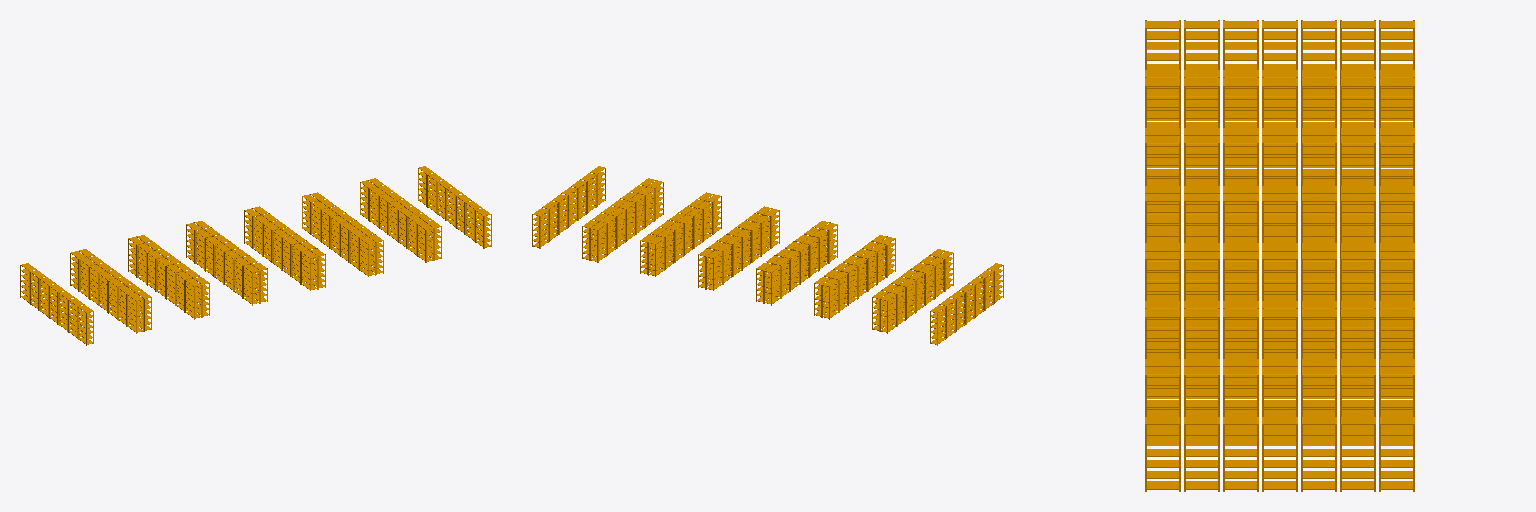
--- Facts derived from the render (not from the file) ---
3 views of the same robot in one strip: view 1: azimuth 30°, elevation 25°; view 2: azimuth 150°, elevation 25°; view 3: azimuth 270°, elevation 25° (orthographic).
Robot: ramp — 1 links, 0 joints (none); root link shelves; default pose: every joint at zero.
Links seen in each view (by area): view 1: shelves; view 2: shelves; view 3: shelves.
Boxes of the visible links, <box> form: shelves: <box>20,166,491,345</box>; shelves: <box>532,166,1003,345</box>; shelves: <box>1145,20,1414,491</box>.
Bounding box of the posed robot: 24.46 × 6.91 × 1.91 m (x, y, z).
Meshes: 1 distinct files referenced, 98 mesh visuals loaded (1 OBJ).

robot.urdf — ramp:
<?xml version="1.0"?>
<robot name="ramp">
  <link name="shelves">
    <visual>
      <origin xyz="-7.2612 0.9492 0.0000" rpy="0.0000 -0.0000 1.5708"/>
      <geometry>
        <mesh filename="picking-shelves.obj" scale="1 1 1"/>
      </geometry>
    </visual>
    <collision>
      <origin xyz="-7.2612 0.9492 0.0000" rpy="0.0000 -0.0000 1.5708"/>
      <geometry>
        <mesh filename="picking-shelves.obj" scale="1 1 1"/>
      </geometry>
    </collision>

    <visual>
      <origin xyz="-7.2612 1.9492 0.0000" rpy="0.0000 -0.0000 1.5708"/>
      <geometry>
        <mesh filename="picking-shelves.obj" scale="1 1 1"/>
      </geometry>
    </visual>
    <collision>
      <origin xyz="-7.2612 1.9492 0.0000" rpy="0.0000 -0.0000 1.5708"/>
      <geometry>
        <mesh filename="picking-shelves.obj" scale="1 1 1"/>
      </geometry>
    </collision>

    <visual>
      <origin xyz="-7.2612 2.9492 0.0000" rpy="0.0000 -0.0000 1.5708"/>
      <geometry>
        <mesh filename="picking-shelves.obj" scale="1 1 1"/>
      </geometry>
    </visual>
    <collision>
      <origin xyz="-7.2612 2.9492 0.0000" rpy="0.0000 -0.0000 1.5708"/>
      <geometry>
        <mesh filename="picking-shelves.obj" scale="1 1 1"/>
      </geometry>
    </collision>

    <visual>
      <origin xyz="-7.2612 3.9492 0.0000" rpy="0.0000 -0.0000 1.5708"/>
      <geometry>
        <mesh filename="picking-shelves.obj" scale="1 1 1"/>
      </geometry>
    </visual>
    <collision>
      <origin xyz="-7.2612 3.9492 0.0000" rpy="0.0000 -0.0000 1.5708"/>
      <geometry>
        <mesh filename="picking-shelves.obj" scale="1 1 1"/>
      </geometry>
    </collision>

    <visual>
      <origin xyz="-7.2612 4.9492 0.0000" rpy="0.0000 -0.0000 1.5708"/>
      <geometry>
        <mesh filename="picking-shelves.obj" scale="1 1 1"/>
      </geometry>
    </visual>
    <collision>
      <origin xyz="-7.2612 4.9492 0.0000" rpy="0.0000 -0.0000 1.5708"/>
      <geometry>
        <mesh filename="picking-shelves.obj" scale="1 1 1"/>
      </geometry>
    </collision>

    <visual>
      <origin xyz="-7.2612 5.9492 0.0000" rpy="0.0000 -0.0000 1.5708"/>
      <geometry>
        <mesh filename="picking-shelves.obj" scale="1 1 1"/>
      </geometry>
    </visual>
    <collision>
      <origin xyz="-7.2612 5.9492 0.0000" rpy="0.0000 -0.0000 1.5708"/>
      <geometry>
        <mesh filename="picking-shelves.obj" scale="1 1 1"/>
      </geometry>
    </collision>

    <visual>
      <origin xyz="-4.2612 -0.0508 0.0000" rpy="0.0000 -0.0000 1.5708"/>
      <geometry>
        <mesh filename="picking-shelves.obj" scale="1 1 1"/>
      </geometry>
    </visual>
    <collision>
      <origin xyz="-4.2612 -0.0508 0.0000" rpy="0.0000 -0.0000 1.5708"/>
      <geometry>
        <mesh filename="picking-shelves.obj" scale="1 1 1"/>
      </geometry>
    </collision>

    <visual>
      <origin xyz="-4.2612 0.9492 0.0000" rpy="0.0000 -0.0000 1.5708"/>
      <geometry>
        <mesh filename="picking-shelves.obj" scale="1 1 1"/>
      </geometry>
    </visual>
    <collision>
      <origin xyz="-4.2612 0.9492 0.0000" rpy="0.0000 -0.0000 1.5708"/>
      <geometry>
        <mesh filename="picking-shelves.obj" scale="1 1 1"/>
      </geometry>
    </collision>

    <visual>
      <origin xyz="-4.2612 1.9492 0.0000" rpy="0.0000 -0.0000 1.5708"/>
      <geometry>
        <mesh filename="picking-shelves.obj" scale="1 1 1"/>
      </geometry>
    </visual>
    <collision>
      <origin xyz="-4.2612 1.9492 0.0000" rpy="0.0000 -0.0000 1.5708"/>
      <geometry>
        <mesh filename="picking-shelves.obj" scale="1 1 1"/>
      </geometry>
    </collision>

    <visual>
      <origin xyz="-4.2612 2.9492 0.0000" rpy="0.0000 -0.0000 1.5708"/>
      <geometry>
        <mesh filename="picking-shelves.obj" scale="1 1 1"/>
      </geometry>
    </visual>
    <collision>
      <origin xyz="-4.2612 2.9492 0.0000" rpy="0.0000 -0.0000 1.5708"/>
      <geometry>
        <mesh filename="picking-shelves.obj" scale="1 1 1"/>
      </geometry>
    </collision>

    <visual>
      <origin xyz="-4.2612 3.9492 0.0000" rpy="0.0000 -0.0000 1.5708"/>
      <geometry>
        <mesh filename="picking-shelves.obj" scale="1 1 1"/>
      </geometry>
    </visual>
    <collision>
      <origin xyz="-4.2612 3.9492 0.0000" rpy="0.0000 -0.0000 1.5708"/>
      <geometry>
        <mesh filename="picking-shelves.obj" scale="1 1 1"/>
      </geometry>
    </collision>

    <visual>
      <origin xyz="-4.2612 4.9492 0.0000" rpy="0.0000 -0.0000 1.5708"/>
      <geometry>
        <mesh filename="picking-shelves.obj" scale="1 1 1"/>
      </geometry>
    </visual>
    <collision>
      <origin xyz="-4.2612 4.9492 0.0000" rpy="0.0000 -0.0000 1.5708"/>
      <geometry>
        <mesh filename="picking-shelves.obj" scale="1 1 1"/>
      </geometry>
    </collision>

    <visual>
      <origin xyz="-4.2612 5.9492 0.0000" rpy="0.0000 -0.0000 1.5708"/>
      <geometry>
        <mesh filename="picking-shelves.obj" scale="1 1 1"/>
      </geometry>
    </visual>
    <collision>
      <origin xyz="-4.2612 5.9492 0.0000" rpy="0.0000 -0.0000 1.5708"/>
      <geometry>
        <mesh filename="picking-shelves.obj" scale="1 1 1"/>
      </geometry>
    </collision>

    <visual>
      <origin xyz="-3.7612 -0.0508 0.0000" rpy="0.0000 -0.0000 1.5708"/>
      <geometry>
        <mesh filename="picking-shelves.obj" scale="1 1 1"/>
      </geometry>
    </visual>
    <collision>
      <origin xyz="-3.7612 -0.0508 0.0000" rpy="0.0000 -0.0000 1.5708"/>
      <geometry>
        <mesh filename="picking-shelves.obj" scale="1 1 1"/>
      </geometry>
    </collision>

    <visual>
      <origin xyz="-3.7612 0.9492 0.0000" rpy="0.0000 -0.0000 1.5708"/>
      <geometry>
        <mesh filename="picking-shelves.obj" scale="1 1 1"/>
      </geometry>
    </visual>
    <collision>
      <origin xyz="-3.7612 0.9492 0.0000" rpy="0.0000 -0.0000 1.5708"/>
      <geometry>
        <mesh filename="picking-shelves.obj" scale="1 1 1"/>
      </geometry>
    </collision>

    <visual>
      <origin xyz="-3.7612 1.9492 0.0000" rpy="0.0000 -0.0000 1.5708"/>
      <geometry>
        <mesh filename="picking-shelves.obj" scale="1 1 1"/>
      </geometry>
    </visual>
    <collision>
      <origin xyz="-3.7612 1.9492 0.0000" rpy="0.0000 -0.0000 1.5708"/>
      <geometry>
        <mesh filename="picking-shelves.obj" scale="1 1 1"/>
      </geometry>
    </collision>

    <visual>
      <origin xyz="-3.7612 2.9492 0.0000" rpy="0.0000 -0.0000 1.5708"/>
      <geometry>
        <mesh filename="picking-shelves.obj" scale="1 1 1"/>
      </geometry>
    </visual>
    <collision>
      <origin xyz="-3.7612 2.9492 0.0000" rpy="0.0000 -0.0000 1.5708"/>
      <geometry>
        <mesh filename="picking-shelves.obj" scale="1 1 1"/>
      </geometry>
    </collision>

    <visual>
      <origin xyz="-3.7612 3.9492 0.0000" rpy="0.0000 -0.0000 1.5708"/>
      <geometry>
        <mesh filename="picking-shelves.obj" scale="1 1 1"/>
      </geometry>
    </visual>
    <collision>
      <origin xyz="-3.7612 3.9492 0.0000" rpy="0.0000 -0.0000 1.5708"/>
      <geometry>
        <mesh filename="picking-shelves.obj" scale="1 1 1"/>
      </geometry>
    </collision>

    <visual>
      <origin xyz="-3.7612 4.9492 0.0000" rpy="0.0000 -0.0000 1.5708"/>
      <geometry>
        <mesh filename="picking-shelves.obj" scale="1 1 1"/>
      </geometry>
    </visual>
    <collision>
      <origin xyz="-3.7612 4.9492 0.0000" rpy="0.0000 -0.0000 1.5708"/>
      <geometry>
        <mesh filename="picking-shelves.obj" scale="1 1 1"/>
      </geometry>
    </collision>

    <visual>
      <origin xyz="-3.7612 5.9492 0.0000" rpy="0.0000 -0.0000 1.5708"/>
      <geometry>
        <mesh filename="picking-shelves.obj" scale="1 1 1"/>
      </geometry>
    </visual>
    <collision>
      <origin xyz="-3.7612 5.9492 0.0000" rpy="0.0000 -0.0000 1.5708"/>
      <geometry>
        <mesh filename="picking-shelves.obj" scale="1 1 1"/>
      </geometry>
    </collision>

    <visual>
      <origin xyz="-0.7612 -0.0508 0.0000" rpy="0.0000 -0.0000 1.5708"/>
      <geometry>
        <mesh filename="picking-shelves.obj" scale="1 1 1"/>
      </geometry>
    </visual>
    <collision>
      <origin xyz="-0.7612 -0.0508 0.0000" rpy="0.0000 -0.0000 1.5708"/>
      <geometry>
        <mesh filename="picking-shelves.obj" scale="1 1 1"/>
      </geometry>
    </collision>

    <visual>
      <origin xyz="-0.7612 0.9492 0.0000" rpy="0.0000 -0.0000 1.5708"/>
      <geometry>
        <mesh filename="picking-shelves.obj" scale="1 1 1"/>
      </geometry>
    </visual>
    <collision>
      <origin xyz="-0.7612 0.9492 0.0000" rpy="0.0000 -0.0000 1.5708"/>
      <geometry>
        <mesh filename="picking-shelves.obj" scale="1 1 1"/>
      </geometry>
    </collision>

    <visual>
      <origin xyz="-0.7612 1.9492 0.0000" rpy="0.0000 -0.0000 1.5708"/>
      <geometry>
        <mesh filename="picking-shelves.obj" scale="1 1 1"/>
      </geometry>
    </visual>
    <collision>
      <origin xyz="-0.7612 1.9492 0.0000" rpy="0.0000 -0.0000 1.5708"/>
      <geometry>
        <mesh filename="picking-shelves.obj" scale="1 1 1"/>
      </geometry>
    </collision>

    <visual>
      <origin xyz="-0.7612 2.9492 0.0000" rpy="0.0000 -0.0000 1.5708"/>
      <geometry>
        <mesh filename="picking-shelves.obj" scale="1 1 1"/>
      </geometry>
    </visual>
    <collision>
      <origin xyz="-0.7612 2.9492 0.0000" rpy="0.0000 -0.0000 1.5708"/>
      <geometry>
        <mesh filename="picking-shelves.obj" scale="1 1 1"/>
      </geometry>
    </collision>

    <visual>
      <origin xyz="-0.7612 3.9492 0.0000" rpy="0.0000 -0.0000 1.5708"/>
      <geometry>
        <mesh filename="picking-shelves.obj" scale="1 1 1"/>
      </geometry>
    </visual>
    <collision>
      <origin xyz="-0.7612 3.9492 0.0000" rpy="0.0000 -0.0000 1.5708"/>
      <geometry>
        <mesh filename="picking-shelves.obj" scale="1 1 1"/>
      </geometry>
    </collision>

    <visual>
      <origin xyz="-0.7612 4.9492 0.0000" rpy="0.0000 -0.0000 1.5708"/>
      <geometry>
        <mesh filename="picking-shelves.obj" scale="1 1 1"/>
      </geometry>
    </visual>
    <collision>
      <origin xyz="-0.7612 4.9492 0.0000" rpy="0.0000 -0.0000 1.5708"/>
      <geometry>
        <mesh filename="picking-shelves.obj" scale="1 1 1"/>
      </geometry>
    </collision>

    <visual>
      <origin xyz="-0.7612 5.9492 0.0000" rpy="0.0000 -0.0000 1.5708"/>
      <geometry>
        <mesh filename="picking-shelves.obj" scale="1 1 1"/>
      </geometry>
    </visual>
    <collision>
      <origin xyz="-0.7612 5.9492 0.0000" rpy="0.0000 -0.0000 1.5708"/>
      <geometry>
        <mesh filename="picking-shelves.obj" scale="1 1 1"/>
      </geometry>
    </collision>

    <visual>
      <origin xyz="-0.2612 -0.0508 0.0000" rpy="0.0000 -0.0000 1.5708"/>
      <geometry>
        <mesh filename="picking-shelves.obj" scale="1 1 1"/>
      </geometry>
    </visual>
    <collision>
      <origin xyz="-0.2612 -0.0508 0.0000" rpy="0.0000 -0.0000 1.5708"/>
      <geometry>
        <mesh filename="picking-shelves.obj" scale="1 1 1"/>
      </geometry>
    </collision>

    <visual>
      <origin xyz="-0.2612 0.9492 0.0000" rpy="0.0000 -0.0000 1.5708"/>
      <geometry>
        <mesh filename="picking-shelves.obj" scale="1 1 1"/>
      </geometry>
    </visual>
    <collision>
      <origin xyz="-0.2612 0.9492 0.0000" rpy="0.0000 -0.0000 1.5708"/>
      <geometry>
        <mesh filename="picking-shelves.obj" scale="1 1 1"/>
      </geometry>
    </collision>

    <visual>
      <origin xyz="-0.2612 1.9492 0.0000" rpy="0.0000 -0.0000 1.5708"/>
      <geometry>
        <mesh filename="picking-shelves.obj" scale="1 1 1"/>
      </geometry>
    </visual>
    <collision>
      <origin xyz="-0.2612 1.9492 0.0000" rpy="0.0000 -0.0000 1.5708"/>
      <geometry>
        <mesh filename="picking-shelves.obj" scale="1 1 1"/>
      </geometry>
    </collision>

    <visual>
      <origin xyz="-0.2612 2.9492 0.0000" rpy="0.0000 -0.0000 1.5708"/>
      <geometry>
        <mesh filename="picking-shelves.obj" scale="1 1 1"/>
      </geometry>
    </visual>
    <collision>
      <origin xyz="-0.2612 2.9492 0.0000" rpy="0.0000 -0.0000 1.5708"/>
      <geometry>
        <mesh filename="picking-shelves.obj" scale="1 1 1"/>
      </geometry>
    </collision>

    <visual>
      <origin xyz="-0.2612 3.9492 0.0000" rpy="0.0000 -0.0000 1.5708"/>
      <geometry>
        <mesh filename="picking-shelves.obj" scale="1 1 1"/>
      </geometry>
    </visual>
    <collision>
      <origin xyz="-0.2612 3.9492 0.0000" rpy="0.0000 -0.0000 1.5708"/>
      <geometry>
        <mesh filename="picking-shelves.obj" scale="1 1 1"/>
      </geometry>
    </collision>

    <visual>
      <origin xyz="-0.2612 4.9492 0.0000" rpy="0.0000 -0.0000 1.5708"/>
      <geometry>
        <mesh filename="picking-shelves.obj" scale="1 1 1"/>
      </geometry>
    </visual>
    <collision>
      <origin xyz="-0.2612 4.9492 0.0000" rpy="0.0000 -0.0000 1.5708"/>
      <geometry>
        <mesh filename="picking-shelves.obj" scale="1 1 1"/>
      </geometry>
    </collision>

    <visual>
      <origin xyz="-0.2612 5.9492 0.0000" rpy="0.0000 -0.0000 1.5708"/>
      <geometry>
        <mesh filename="picking-shelves.obj" scale="1 1 1"/>
      </geometry>
    </visual>
    <collision>
      <origin xyz="-0.2612 5.9492 0.0000" rpy="0.0000 -0.0000 1.5708"/>
      <geometry>
        <mesh filename="picking-shelves.obj" scale="1 1 1"/>
      </geometry>
    </collision>

    <visual>
      <origin xyz="2.7388 -0.0508 0.0000" rpy="0.0000 -0.0000 1.5708"/>
      <geometry>
        <mesh filename="picking-shelves.obj" scale="1 1 1"/>
      </geometry>
    </visual>
    <collision>
      <origin xyz="2.7388 -0.0508 0.0000" rpy="0.0000 -0.0000 1.5708"/>
      <geometry>
        <mesh filename="picking-shelves.obj" scale="1 1 1"/>
      </geometry>
    </collision>

    <visual>
      <origin xyz="2.7388 0.9492 0.0000" rpy="0.0000 -0.0000 1.5708"/>
      <geometry>
        <mesh filename="picking-shelves.obj" scale="1 1 1"/>
      </geometry>
    </visual>
    <collision>
      <origin xyz="2.7388 0.9492 0.0000" rpy="0.0000 -0.0000 1.5708"/>
      <geometry>
        <mesh filename="picking-shelves.obj" scale="1 1 1"/>
      </geometry>
    </collision>

    <visual>
      <origin xyz="2.7388 1.9492 0.0000" rpy="0.0000 -0.0000 1.5708"/>
      <geometry>
        <mesh filename="picking-shelves.obj" scale="1 1 1"/>
      </geometry>
    </visual>
    <collision>
      <origin xyz="2.7388 1.9492 0.0000" rpy="0.0000 -0.0000 1.5708"/>
      <geometry>
        <mesh filename="picking-shelves.obj" scale="1 1 1"/>
      </geometry>
    </collision>

    <visual>
      <origin xyz="2.7388 2.9492 0.0000" rpy="0.0000 -0.0000 1.5708"/>
      <geometry>
        <mesh filename="picking-shelves.obj" scale="1 1 1"/>
      </geometry>
    </visual>
    <collision>
      <origin xyz="2.7388 2.9492 0.0000" rpy="0.0000 -0.0000 1.5708"/>
      <geometry>
        <mesh filename="picking-shelves.obj" scale="1 1 1"/>
      </geometry>
    </collision>

    <visual>
      <origin xyz="-7.2612 -0.0508 0.0000" rpy="0.0000 -0.0000 1.5708"/>
      <geometry>
        <mesh filename="picking-shelves.obj" scale="1 1 1"/>
      </geometry>
    </visual>
    <collision>
      <origin xyz="-7.2612 -0.0508 0.0000" rpy="0.0000 -0.0000 1.5708"/>
      <geometry>
        <mesh filename="picking-shelves.obj" scale="1 1 1"/>
      </geometry>
    </collision>

    <visual>
      <origin xyz="2.7388 3.9492 0.0000" rpy="0.0000 -0.0000 1.5708"/>
      <geometry>
        <mesh filename="picking-shelves.obj" scale="1 1 1"/>
      </geometry>
    </visual>
    <collision>
      <origin xyz="2.7388 3.9492 0.0000" rpy="0.0000 -0.0000 1.5708"/>
      <geometry>
        <mesh filename="picking-shelves.obj" scale="1 1 1"/>
      </geometry>
    </collision>

    <visual>
      <origin xyz="2.7388 4.9492 0.0000" rpy="0.0000 -0.0000 1.5708"/>
      <geometry>
        <mesh filename="picking-shelves.obj" scale="1 1 1"/>
      </geometry>
    </visual>
    <collision>
      <origin xyz="2.7388 4.9492 0.0000" rpy="0.0000 -0.0000 1.5708"/>
      <geometry>
        <mesh filename="picking-shelves.obj" scale="1 1 1"/>
      </geometry>
    </collision>

    <visual>
      <origin xyz="2.7388 5.9492 0.0000" rpy="0.0000 -0.0000 1.5708"/>
      <geometry>
        <mesh filename="picking-shelves.obj" scale="1 1 1"/>
      </geometry>
    </visual>
    <collision>
      <origin xyz="2.7388 5.9492 0.0000" rpy="0.0000 -0.0000 1.5708"/>
      <geometry>
        <mesh filename="picking-shelves.obj" scale="1 1 1"/>
      </geometry>
    </collision>

    <visual>
      <origin xyz="3.2388 -0.0508 0.0000" rpy="0.0000 -0.0000 1.5708"/>
      <geometry>
        <mesh filename="picking-shelves.obj" scale="1 1 1"/>
      </geometry>
    </visual>
    <collision>
      <origin xyz="3.2388 -0.0508 0.0000" rpy="0.0000 -0.0000 1.5708"/>
      <geometry>
        <mesh filename="picking-shelves.obj" scale="1 1 1"/>
      </geometry>
    </collision>

    <visual>
      <origin xyz="3.2388 0.9492 0.0000" rpy="0.0000 -0.0000 1.5708"/>
      <geometry>
        <mesh filename="picking-shelves.obj" scale="1 1 1"/>
      </geometry>
    </visual>
    <collision>
      <origin xyz="3.2388 0.9492 0.0000" rpy="0.0000 -0.0000 1.5708"/>
      <geometry>
        <mesh filename="picking-shelves.obj" scale="1 1 1"/>
      </geometry>
    </collision>

    <visual>
      <origin xyz="3.2388 1.9492 0.0000" rpy="0.0000 -0.0000 1.5708"/>
      <geometry>
        <mesh filename="picking-shelves.obj" scale="1 1 1"/>
      </geometry>
    </visual>
    <collision>
      <origin xyz="3.2388 1.9492 0.0000" rpy="0.0000 -0.0000 1.5708"/>
      <geometry>
        <mesh filename="picking-shelves.obj" scale="1 1 1"/>
      </geometry>
    </collision>

    <visual>
      <origin xyz="3.2388 2.9492 0.0000" rpy="0.0000 -0.0000 1.5708"/>
      <geometry>
        <mesh filename="picking-shelves.obj" scale="1 1 1"/>
      </geometry>
    </visual>
    <collision>
      <origin xyz="3.2388 2.9492 0.0000" rpy="0.0000 -0.0000 1.5708"/>
      <geometry>
        <mesh filename="picking-shelves.obj" scale="1 1 1"/>
      </geometry>
    </collision>

    <visual>
      <origin xyz="3.2388 3.9492 0.0000" rpy="0.0000 -0.0000 1.5708"/>
      <geometry>
        <mesh filename="picking-shelves.obj" scale="1 1 1"/>
      </geometry>
    </visual>
    <collision>
      <origin xyz="3.2388 3.9492 0.0000" rpy="0.0000 -0.0000 1.5708"/>
      <geometry>
        <mesh filename="picking-shelves.obj" scale="1 1 1"/>
      </geometry>
    </collision>

    <visual>
      <origin xyz="3.2388 4.9492 0.0000" rpy="0.0000 -0.0000 1.5708"/>
      <geometry>
        <mesh filename="picking-shelves.obj" scale="1 1 1"/>
      </geometry>
    </visual>
    <collision>
      <origin xyz="3.2388 4.9492 0.0000" rpy="0.0000 -0.0000 1.5708"/>
      <geometry>
        <mesh filename="picking-shelves.obj" scale="1 1 1"/>
      </geometry>
    </collision>

    <visual>
      <origin xyz="3.2388 5.9492 0.0000" rpy="0.0000 -0.0000 1.5708"/>
      <geometry>
        <mesh filename="picking-shelves.obj" scale="1 1 1"/>
      </geometry>
    </visual>
    <collision>
      <origin xyz="3.2388 5.9492 0.0000" rpy="0.0000 -0.0000 1.5708"/>
      <geometry>
        <mesh filename="picking-shelves.obj" scale="1 1 1"/>
      </geometry>
    </collision>

    <visual>
      <origin xyz="6.2388 -0.0508 0.0000" rpy="0.0000 -0.0000 1.5708"/>
      <geometry>
        <mesh filename="picking-shelves.obj" scale="1 1 1"/>
      </geometry>
    </visual>
    <collision>
      <origin xyz="6.2388 -0.0508 0.0000" rpy="0.0000 -0.0000 1.5708"/>
      <geometry>
        <mesh filename="picking-shelves.obj" scale="1 1 1"/>
      </geometry>
    </collision>

    <visual>
      <origin xyz="6.2388 0.9492 0.0000" rpy="0.0000 -0.0000 1.5708"/>
      <geometry>
        <mesh filename="picking-shelves.obj" scale="1 1 1"/>
      </geometry>
    </visual>
    <collision>
      <origin xyz="6.2388 0.9492 0.0000" rpy="0.0000 -0.0000 1.5708"/>
      <geometry>
        <mesh filename="picking-shelves.obj" scale="1 1 1"/>
      </geometry>
    </collision>

    <visual>
      <origin xyz="6.2388 1.9492 0.0000" rpy="0.0000 -0.0000 1.5708"/>
      <geometry>
        <mesh filename="picking-shelves.obj" scale="1 1 1"/>
      </geometry>
    </visual>
    <collision>
      <origin xyz="6.2388 1.9492 0.0000" rpy="0.0000 -0.0000 1.5708"/>
      <geometry>
        <mesh filename="picking-shelves.obj" scale="1 1 1"/>
      </geometry>
    </collision>

    <visual>
      <origin xyz="6.2388 2.9492 0.0000" rpy="0.0000 -0.0000 1.5708"/>
      <geometry>
        <mesh filename="picking-shelves.obj" scale="1 1 1"/>
      </geometry>
    </visual>
    <collision>
      <origin xyz="6.2388 2.9492 0.0000" rpy="0.0000 -0.0000 1.5708"/>
      <geometry>
        <mesh filename="picking-shelves.obj" scale="1 1 1"/>
      </geometry>
    </collision>

    <visual>
      <origin xyz="6.2388 3.9492 0.0000" rpy="0.0000 -0.0000 1.5708"/>
      <geometry>
        <mesh filename="picking-shelves.obj" scale="1 1 1"/>
      </geometry>
    </visual>
    <collision>
      <origin xyz="6.2388 3.9492 0.0000" rpy="0.0000 -0.0000 1.5708"/>
      <geometry>
        <mesh filename="picking-shelves.obj" scale="1 1 1"/>
      </geometry>
    </collision>

    <visual>
      <origin xyz="6.2388 4.9492 0.0000" rpy="0.0000 -0.0000 1.5708"/>
      <geometry>
        <mesh filename="picking-shelves.obj" scale="1 1 1"/>
      </geometry>
    </visual>
    <collision>
      <origin xyz="6.2388 4.9492 0.0000" rpy="0.0000 -0.0000 1.5708"/>
      <geometry>
        <mesh filename="picking-shelves.obj" scale="1 1 1"/>
      </geometry>
    </collision>

    <visual>
      <origin xyz="6.2388 5.9492 0.0000" rpy="0.0000 -0.0000 1.5708"/>
      <geometry>
        <mesh filename="picking-shelves.obj" scale="1 1 1"/>
      </geometry>
    </visual>
    <collision>
      <origin xyz="6.2388 5.9492 0.0000" rpy="0.0000 -0.0000 1.5708"/>
      <geometry>
        <mesh filename="picking-shelves.obj" scale="1 1 1"/>
      </geometry>
    </collision>

    <visual>
      <origin xyz="6.7388 -0.0508 0.0000" rpy="0.0000 -0.0000 1.5708"/>
      <geometry>
        <mesh filename="picking-shelves.obj" scale="1 1 1"/>
      </geometry>
    </visual>
    <collision>
      <origin xyz="6.7388 -0.0508 0.0000" rpy="0.0000 -0.0000 1.5708"/>
      <geometry>
        <mesh filename="picking-shelves.obj" scale="1 1 1"/>
      </geometry>
    </collision>

    <visual>
      <origin xyz="6.7388 0.9492 0.0000" rpy="0.0000 -0.0000 1.5708"/>
      <geometry>
        <mesh filename="picking-shelves.obj" scale="1 1 1"/>
      </geometry>
    </visual>
    <collision>
      <origin xyz="6.7388 0.9492 0.0000" rpy="0.0000 -0.0000 1.5708"/>
      <geometry>
        <mesh filename="picking-shelves.obj" scale="1 1 1"/>
      </geometry>
    </collision>

    <visual>
      <origin xyz="6.7388 1.9492 0.0000" rpy="0.0000 -0.0000 1.5708"/>
      <geometry>
        <mesh filename="picking-shelves.obj" scale="1 1 1"/>
      </geometry>
    </visual>
    <collision>
      <origin xyz="6.7388 1.9492 0.0000" rpy="0.0000 -0.0000 1.5708"/>
      <geometry>
        <mesh filename="picking-shelves.obj" scale="1 1 1"/>
      </geometry>
    </collision>

    <visual>
      <origin xyz="6.7388 2.9492 0.0000" rpy="0.0000 -0.0000 1.5708"/>
      <geometry>
        <mesh filename="picking-shelves.obj" scale="1 1 1"/>
      </geometry>
    </visual>
    <collision>
      <origin xyz="6.7388 2.9492 0.0000" rpy="0.0000 -0.0000 1.5708"/>
      <geometry>
        <mesh filename="picking-shelves.obj" scale="1 1 1"/>
      </geometry>
    </collision>

    <visual>
      <origin xyz="6.7388 3.9492 0.0000" rpy="0.0000 -0.0000 1.5708"/>
      <geometry>
        <mesh filename="picking-shelves.obj" scale="1 1 1"/>
      </geometry>
    </visual>
    <collision>
      <origin xyz="6.7388 3.9492 0.0000" rpy="0.0000 -0.0000 1.5708"/>
      <geometry>
        <mesh filename="picking-shelves.obj" scale="1 1 1"/>
      </geometry>
    </collision>

    <visual>
      <origin xyz="6.7388 4.9492 0.0000" rpy="0.0000 -0.0000 1.5708"/>
      <geometry>
        <mesh filename="picking-shelves.obj" scale="1 1 1"/>
      </geometry>
    </visual>
    <collision>
      <origin xyz="6.7388 4.9492 0.0000" rpy="0.0000 -0.0000 1.5708"/>
      <geometry>
        <mesh filename="picking-shelves.obj" scale="1 1 1"/>
      </geometry>
    </collision>

    <visual>
      <origin xyz="6.7388 5.9492 0.0000" rpy="0.0000 -0.0000 1.5708"/>
      <geometry>
        <mesh filename="picking-shelves.obj" scale="1 1 1"/>
      </geometry>
    </visual>
    <collision>
      <origin xyz="6.7388 5.9492 0.0000" rpy="0.0000 -0.0000 1.5708"/>
      <geometry>
        <mesh filename="picking-shelves.obj" scale="1 1 1"/>
      </geometry>
    </collision>

    <visual>
      <origin xyz="9.7388 -0.0508 0.0000" rpy="0.0000 -0.0000 1.5708"/>
      <geometry>
        <mesh filename="picking-shelves.obj" scale="1 1 1"/>
      </geometry>
    </visual>
    <collision>
      <origin xyz="9.7388 -0.0508 0.0000" rpy="0.0000 -0.0000 1.5708"/>
      <geometry>
        <mesh filename="picking-shelves.obj" scale="1 1 1"/>
      </geometry>
    </collision>

    <visual>
      <origin xyz="9.7388 0.9492 0.0000" rpy="0.0000 -0.0000 1.5708"/>
      <geometry>
        <mesh filename="picking-shelves.obj" scale="1 1 1"/>
      </geometry>
    </visual>
    <collision>
      <origin xyz="9.7388 0.9492 0.0000" rpy="0.0000 -0.0000 1.5708"/>
      <geometry>
        <mesh filename="picking-shelves.obj" scale="1 1 1"/>
      </geometry>
    </collision>

    <visual>
      <origin xyz="9.7388 1.9492 0.0000" rpy="0.0000 -0.0000 1.5708"/>
      <geometry>
        <mesh filename="picking-shelves.obj" scale="1 1 1"/>
      </geometry>
    </visual>
    <collision>
      <origin xyz="9.7388 1.9492 0.0000" rpy="0.0000 -0.0000 1.5708"/>
      <geometry>
        <mesh filename="picking-shelves.obj" scale="1 1 1"/>
      </geometry>
    </collision>

    <visual>
      <origin xyz="9.7388 2.9492 0.0000" rpy="0.0000 -0.0000 1.5708"/>
      <geometry>
        <mesh filename="picking-shelves.obj" scale="1 1 1"/>
      </geometry>
    </visual>
    <collision>
      <origin xyz="9.7388 2.9492 0.0000" rpy="0.0000 -0.0000 1.5708"/>
      <geometry>
        <mesh filename="picking-shelves.obj" scale="1 1 1"/>
      </geometry>
    </collision>

    <visual>
      <origin xyz="9.7388 3.9492 0.0000" rpy="0.0000 -0.0000 1.5708"/>
      <geometry>
        <mesh filename="picking-shelves.obj" scale="1 1 1"/>
      </geometry>
    </visual>
    <collision>
      <origin xyz="9.7388 3.9492 0.0000" rpy="0.0000 -0.0000 1.5708"/>
      <geometry>
        <mesh filename="picking-shelves.obj" scale="1 1 1"/>
      </geometry>
    </collision>

    <visual>
      <origin xyz="9.7388 4.9492 0.0000" rpy="0.0000 -0.0000 1.5708"/>
      <geometry>
        <mesh filename="picking-shelves.obj" scale="1 1 1"/>
      </geometry>
    </visual>
    <collision>
      <origin xyz="9.7388 4.9492 0.0000" rpy="0.0000 -0.0000 1.5708"/>
      <geometry>
        <mesh filename="picking-shelves.obj" scale="1 1 1"/>
      </geometry>
    </collision>

    <visual>
      <origin xyz="9.7388 5.9492 0.0000" rpy="0.0000 -0.0000 1.5708"/>
      <geometry>
        <mesh filename="picking-shelves.obj" scale="1 1 1"/>
      </geometry>
    </visual>
    <collision>
      <origin xyz="9.7388 5.9492 0.0000" rpy="0.0000 -0.0000 1.5708"/>
      <geometry>
        <mesh filename="picking-shelves.obj" scale="1 1 1"/>
      </geometry>
    </collision>

    <visual>
      <origin xyz="10.2388 -0.0508 0.0000" rpy="0.0000 -0.0000 1.5708"/>
      <geometry>
        <mesh filename="picking-shelves.obj" scale="1 1 1"/>
      </geometry>
    </visual>
    <collision>
      <origin xyz="10.2388 -0.0508 0.0000" rpy="0.0000 -0.0000 1.5708"/>
      <geometry>
        <mesh filename="picking-shelves.obj" scale="1 1 1"/>
      </geometry>
    </collision>

    <visual>
      <origin xyz="10.2388 0.9492 0.0000" rpy="0.0000 -0.0000 1.5708"/>
      <geometry>
        <mesh filename="picking-shelves.obj" scale="1 1 1"/>
      </geometry>
    </visual>
    <collision>
      <origin xyz="10.2388 0.9492 0.0000" rpy="0.0000 -0.0000 1.5708"/>
      <geometry>
        <mesh filename="picking-shelves.obj" scale="1 1 1"/>
      </geometry>
    </collision>

    <visual>
      <origin xyz="10.2388 1.9492 0.0000" rpy="0.0000 -0.0000 1.5708"/>
      <geometry>
        <mesh filename="picking-shelves.obj" scale="1 1 1"/>
      </geometry>
    </visual>
    <collision>
      <origin xyz="10.2388 1.9492 0.0000" rpy="0.0000 -0.0000 1.5708"/>
      <geometry>
        <mesh filename="picking-shelves.obj" scale="1 1 1"/>
      </geometry>
    </collision>

    <visual>
      <origin xyz="10.2388 2.9492 0.0000" rpy="0.0000 -0.0000 1.5708"/>
      <geometry>
        <mesh filename="picking-shelves.obj" scale="1 1 1"/>
      </geometry>
    </visual>
    <collision>
      <origin xyz="10.2388 2.9492 0.0000" rpy="0.0000 -0.0000 1.5708"/>
      <geometry>
        <mesh filename="picking-shelves.obj" scale="1 1 1"/>
      </geometry>
    </collision>

    <visual>
      <origin xyz="10.2388 3.9492 0.0000" rpy="0.0000 -0.0000 1.5708"/>
      <geometry>
        <mesh filename="picking-shelves.obj" scale="1 1 1"/>
      </geometry>
    </visual>
    <collision>
      <origin xyz="10.2388 3.9492 0.0000" rpy="0.0000 -0.0000 1.5708"/>
      <geometry>
        <mesh filename="picking-shelves.obj" scale="1 1 1"/>
      </geometry>
    </collision>

    <visual>
      <origin xyz="10.2388 4.9492 0.0000" rpy="0.0000 -0.0000 1.5708"/>
      <geometry>
        <mesh filename="picking-shelves.obj" scale="1 1 1"/>
      </geometry>
    </visual>
    <collision>
      <origin xyz="10.2388 4.9492 0.0000" rpy="0.0000 -0.0000 1.5708"/>
      <geometry>
        <mesh filename="picking-shelves.obj" scale="1 1 1"/>
      </geometry>
    </collision>

    <visual>
      <origin xyz="10.2388 5.9492 0.0000" rpy="0.0000 -0.0000 1.5708"/>
      <geometry>
        <mesh filename="picking-shelves.obj" scale="1 1 1"/>
      </geometry>
    </visual>
    <collision>
      <origin xyz="10.2388 5.9492 0.0000" rpy="0.0000 -0.0000 1.5708"/>
      <geometry>
        <mesh filename="picking-shelves.obj" scale="1 1 1"/>
      </geometry>
    </collision>

    <visual>
      <origin xyz="13.2388 -0.0508 0.0000" rpy="0.0000 -0.0000 1.5708"/>
      <geometry>
        <mesh filename="picking-shelves.obj" scale="1 1 1"/>
      </geometry>
    </visual>
    <collision>
      <origin xyz="13.2388 -0.0508 0.0000" rpy="0.0000 -0.0000 1.5708"/>
      <geometry>
        <mesh filename="picking-shelves.obj" scale="1 1 1"/>
      </geometry>
    </collision>

    <visual>
      <origin xyz="13.2388 0.9492 0.0000" rpy="0.0000 -0.0000 1.5708"/>
      <geometry>
        <mesh filename="picking-shelves.obj" scale="1 1 1"/>
      </geometry>
    </visual>
    <collision>
      <origin xyz="13.2388 0.9492 0.0000" rpy="0.0000 -0.0000 1.5708"/>
      <geometry>
        <mesh filename="picking-shelves.obj" scale="1 1 1"/>
      </geometry>
    </collision>

    <visual>
      <origin xyz="13.2388 1.9492 0.0000" rpy="0.0000 -0.0000 1.5708"/>
      <geometry>
        <mesh filename="picking-shelves.obj" scale="1 1 1"/>
      </geometry>
    </visual>
    <collision>
      <origin xyz="13.2388 1.9492 0.0000" rpy="0.0000 -0.0000 1.5708"/>
      <geometry>
        <mesh filename="picking-shelves.obj" scale="1 1 1"/>
      </geometry>
    </collision>

    <visual>
      <origin xyz="13.2388 2.9492 0.0000" rpy="0.0000 -0.0000 1.5708"/>
      <geometry>
        <mesh filename="picking-shelves.obj" scale="1 1 1"/>
      </geometry>
    </visual>
    <collision>
      <origin xyz="13.2388 2.9492 0.0000" rpy="0.0000 -0.0000 1.5708"/>
      <geometry>
        <mesh filename="picking-shelves.obj" scale="1 1 1"/>
      </geometry>
    </collision>

    <visual>
      <origin xyz="13.2388 3.9492 0.0000" rpy="0.0000 -0.0000 1.5708"/>
      <geometry>
        <mesh filename="picking-shelves.obj" scale="1 1 1"/>
      </geometry>
    </visual>
    <collision>
      <origin xyz="13.2388 3.9492 0.0000" rpy="0.0000 -0.0000 1.5708"/>
      <geometry>
        <mesh filename="picking-shelves.obj" scale="1 1 1"/>
      </geometry>
    </collision>

    <visual>
      <origin xyz="13.2388 4.9492 0.0000" rpy="0.0000 -0.0000 1.5708"/>
      <geometry>
        <mesh filename="picking-shelves.obj" scale="1 1 1"/>
      </geometry>
    </visual>
    <collision>
      <origin xyz="13.2388 4.9492 0.0000" rpy="0.0000 -0.0000 1.5708"/>
      <geometry>
        <mesh filename="picking-shelves.obj" scale="1 1 1"/>
      </geometry>
    </collision>

    <visual>
      <origin xyz="13.2388 5.9492 0.0000" rpy="0.0000 -0.0000 1.5708"/>
      <geometry>
        <mesh filename="picking-shelves.obj" scale="1 1 1"/>
      </geometry>
    </visual>
    <collision>
      <origin xyz="13.2388 5.9492 0.0000" rpy="0.0000 -0.0000 1.5708"/>
      <geometry>
        <mesh filename="picking-shelves.obj" scale="1 1 1"/>
      </geometry>
    </collision>

    <visual>
      <origin xyz="13.7388 -0.0508 0.0000" rpy="0.0000 -0.0000 1.5708"/>
      <geometry>
        <mesh filename="picking-shelves.obj" scale="1 1 1"/>
      </geometry>
    </visual>
    <collision>
      <origin xyz="13.7388 -0.0508 0.0000" rpy="0.0000 -0.0000 1.5708"/>
      <geometry>
        <mesh filename="picking-shelves.obj" scale="1 1 1"/>
      </geometry>
    </collision>

    <visual>
      <origin xyz="13.7388 0.9492 0.0000" rpy="0.0000 -0.0000 1.5708"/>
      <geometry>
        <mesh filename="picking-shelves.obj" scale="1 1 1"/>
      </geometry>
    </visual>
    <collision>
      <origin xyz="13.7388 0.9492 0.0000" rpy="0.0000 -0.0000 1.5708"/>
      <geometry>
        <mesh filename="picking-shelves.obj" scale="1 1 1"/>
      </geometry>
    </collision>

    <visual>
      <origin xyz="13.7388 1.9492 0.0000" rpy="0.0000 -0.0000 1.5708"/>
      <geometry>
        <mesh filename="picking-shelves.obj" scale="1 1 1"/>
      </geometry>
    </visual>
    <collision>
      <origin xyz="13.7388 1.9492 0.0000" rpy="0.0000 -0.0000 1.5708"/>
      <geometry>
        <mesh filename="picking-shelves.obj" scale="1 1 1"/>
      </geometry>
    </collision>

    <visual>
      <origin xyz="13.7388 2.9492 0.0000" rpy="0.0000 -0.0000 1.5708"/>
      <geometry>
        <mesh filename="picking-shelves.obj" scale="1 1 1"/>
      </geometry>
    </visual>
    <collision>
      <origin xyz="13.7388 2.9492 0.0000" rpy="0.0000 -0.0000 1.5708"/>
      <geometry>
        <mesh filename="picking-shelves.obj" scale="1 1 1"/>
      </geometry>
    </collision>

    <visual>
      <origin xyz="13.7388 3.9492 0.0000" rpy="0.0000 -0.0000 1.5708"/>
      <geometry>
        <mesh filename="picking-shelves.obj" scale="1 1 1"/>
      </geometry>
    </visual>
    <collision>
      <origin xyz="13.7388 3.9492 0.0000" rpy="0.0000 -0.0000 1.5708"/>
      <geometry>
        <mesh filename="picking-shelves.obj" scale="1 1 1"/>
      </geometry>
    </collision>

    <visual>
      <origin xyz="13.7388 4.9492 0.0000" rpy="0.0000 -0.0000 1.5708"/>
      <geometry>
        <mesh filename="picking-shelves.obj" scale="1 1 1"/>
      </geometry>
    </visual>
    <collision>
      <origin xyz="13.7388 4.9492 0.0000" rpy="0.0000 -0.0000 1.5708"/>
      <geometry>
        <mesh filename="picking-shelves.obj" scale="1 1 1"/>
      </geometry>
    </collision>

    <visual>
      <origin xyz="13.7388 5.9492 0.0000" rpy="0.0000 -0.0000 1.5708"/>
      <geometry>
        <mesh filename="picking-shelves.obj" scale="1 1 1"/>
      </geometry>
    </visual>
    <collision>
      <origin xyz="13.7388 5.9492 0.0000" rpy="0.0000 -0.0000 1.5708"/>
      <geometry>
        <mesh filename="picking-shelves.obj" scale="1 1 1"/>
      </geometry>
    </collision>

    <visual>
      <origin xyz="16.7388 -0.0508 0.0000" rpy="0.0000 -0.0000 1.5708"/>
      <geometry>
        <mesh filename="picking-shelves.obj" scale="1 1 1"/>
      </geometry>
    </visual>
    <collision>
      <origin xyz="16.7388 -0.0508 0.0000" rpy="0.0000 -0.0000 1.5708"/>
      <geometry>
        <mesh filename="picking-shelves.obj" scale="1 1 1"/>
      </geometry>
    </collision>

    <visual>
      <origin xyz="16.7388 0.9492 0.0000" rpy="0.0000 -0.0000 1.5708"/>
      <geometry>
        <mesh filename="picking-shelves.obj" scale="1 1 1"/>
      </geometry>
    </visual>
    <collision>
      <origin xyz="16.7388 0.9492 0.0000" rpy="0.0000 -0.0000 1.5708"/>
      <geometry>
        <mesh filename="picking-shelves.obj" scale="1 1 1"/>
      </geometry>
    </collision>

    <visual>
      <origin xyz="16.7388 1.9492 0.0000" rpy="0.0000 -0.0000 1.5708"/>
      <geometry>
        <mesh filename="picking-shelves.obj" scale="1 1 1"/>
      </geometry>
    </visual>
    <collision>
      <origin xyz="16.7388 1.9492 0.0000" rpy="0.0000 -0.0000 1.5708"/>
      <geometry>
        <mesh filename="picking-shelves.obj" scale="1 1 1"/>
      </geometry>
    </collision>

    <visual>
      <origin xyz="16.7388 2.9492 0.0000" rpy="0.0000 -0.0000 1.5708"/>
      <geometry>
        <mesh filename="picking-shelves.obj" scale="1 1 1"/>
      </geometry>
    </visual>
    <collision>
      <origin xyz="16.7388 2.9492 0.0000" rpy="0.0000 -0.0000 1.5708"/>
      <geometry>
        <mesh filename="picking-shelves.obj" scale="1 1 1"/>
      </geometry>
    </collision>

    <visual>
      <origin xyz="16.7388 3.9492 0.0000" rpy="0.0000 -0.0000 1.5708"/>
      <geometry>
        <mesh filename="picking-shelves.obj" scale="1 1 1"/>
      </geometry>
    </visual>
    <collision>
      <origin xyz="16.7388 3.9492 0.0000" rpy="0.0000 -0.0000 1.5708"/>
      <geometry>
        <mesh filename="picking-shelves.obj" scale="1 1 1"/>
      </geometry>
    </collision>

    <visual>
      <origin xyz="16.7388 4.9492 0.0000" rpy="0.0000 -0.0000 1.5708"/>
      <geometry>
        <mesh filename="picking-shelves.obj" scale="1 1 1"/>
      </geometry>
    </visual>
    <collision>
      <origin xyz="16.7388 4.9492 0.0000" rpy="0.0000 -0.0000 1.5708"/>
      <geometry>
        <mesh filename="picking-shelves.obj" scale="1 1 1"/>
      </geometry>
    </collision>

    <visual>
      <origin xyz="16.7388 5.9492 0.0000" rpy="0.0000 -0.0000 1.5708"/>
      <geometry>
        <mesh filename="picking-shelves.obj" scale="1 1 1"/>
      </geometry>
    </visual>
    <collision>
      <origin xyz="16.7388 5.9492 0.0000" rpy="0.0000 -0.0000 1.5708"/>
      <geometry>
        <mesh filename="picking-shelves.obj" scale="1 1 1"/>
      </geometry>
    </collision>
    <inertial>
      <mass value="0.0"/>
      <inertia ixx="0.0" ixy="0.0" ixz="0.0" iyy="0.0" iyz="0.0" izz="0.0"/>
    </inertial>
  </link>
</robot>
